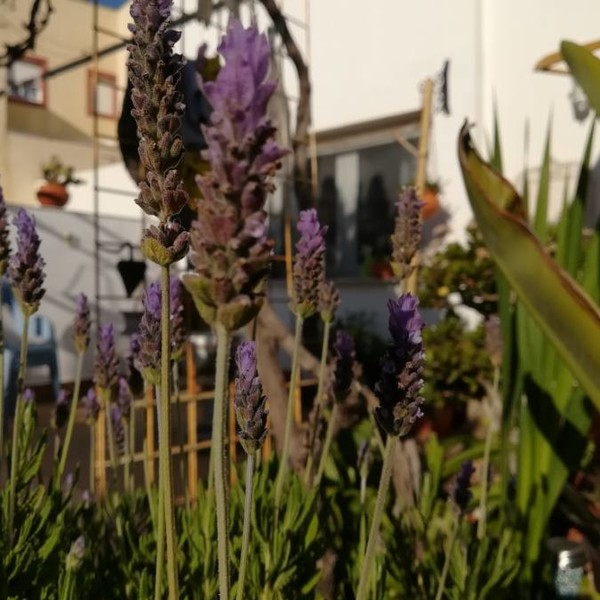obstacle: (92, 0, 492, 575)
